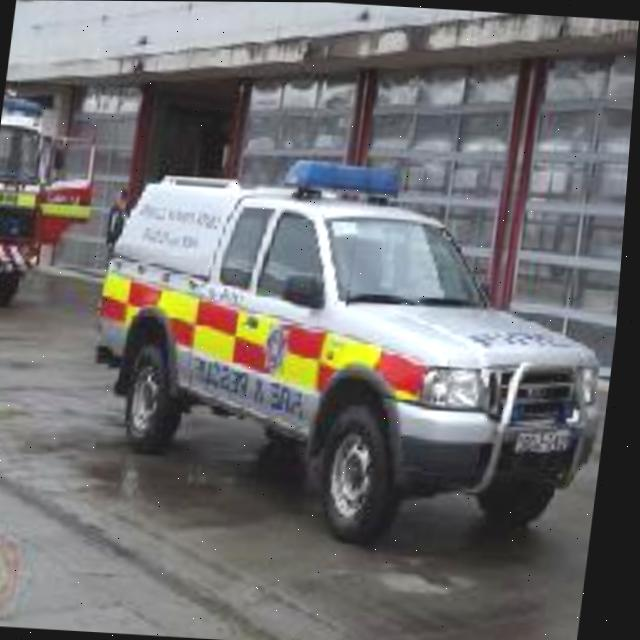emergency: (91, 150, 621, 539), (0, 86, 100, 309)
